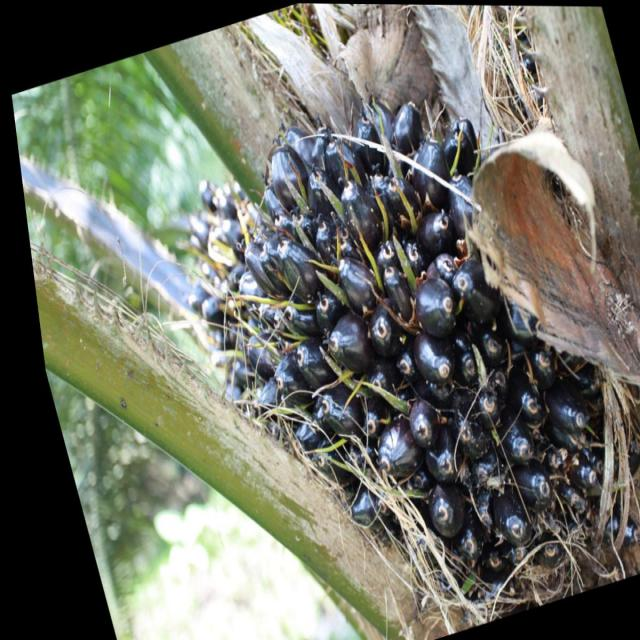Unripe: (168, 33, 640, 640)
